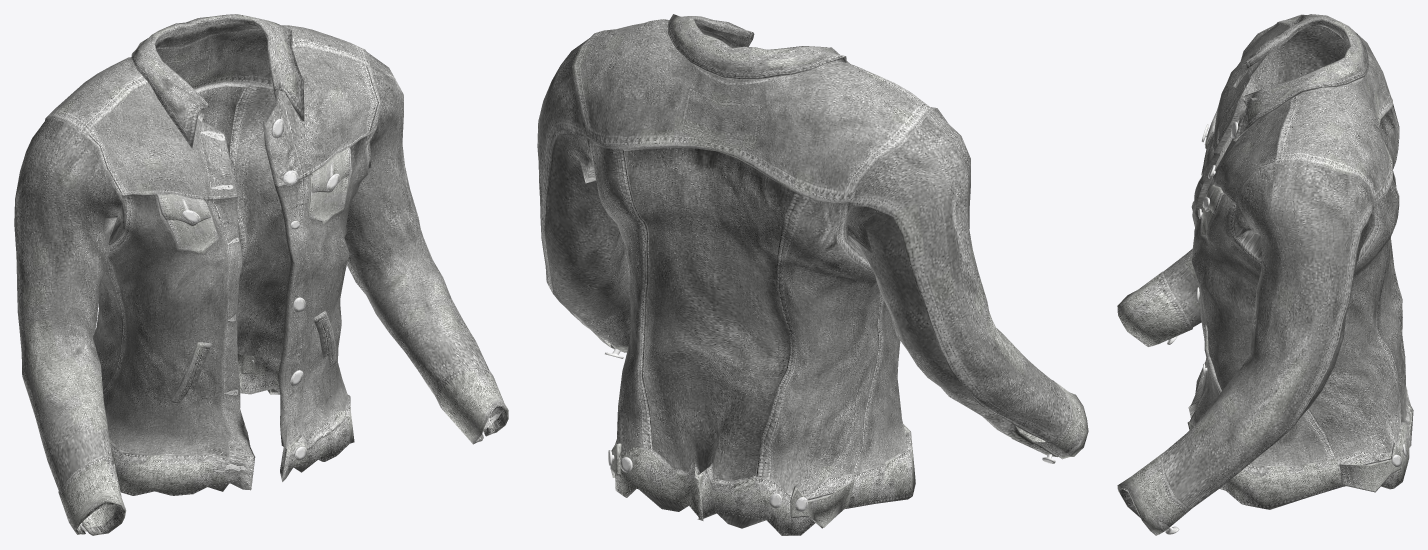
Rendered from hoodie-grey-zip.glb.
The picture shows the model from 3 angles, left to right: view 1: azimuth 30°, elevation 25°; view 2: azimuth 150°, elevation 25°; view 3: azimuth 270°, elevation 25°; orthographic projection. The views are drawn at different scales.
Visible parts, largest first — view 1: jacket-denim; view 2: jacket-denim; view 3: jacket-denim.
Boxes of the visible parts, <box> form: jacket-denim: <box>14,14,508,535</box>; jacket-denim: <box>537,14,1088,535</box>; jacket-denim: <box>1117,14,1413,535</box>.
Bounding box in the file's own units: 0.6995 × 0.6324 × 0.414.
1 material, 1 textured.
